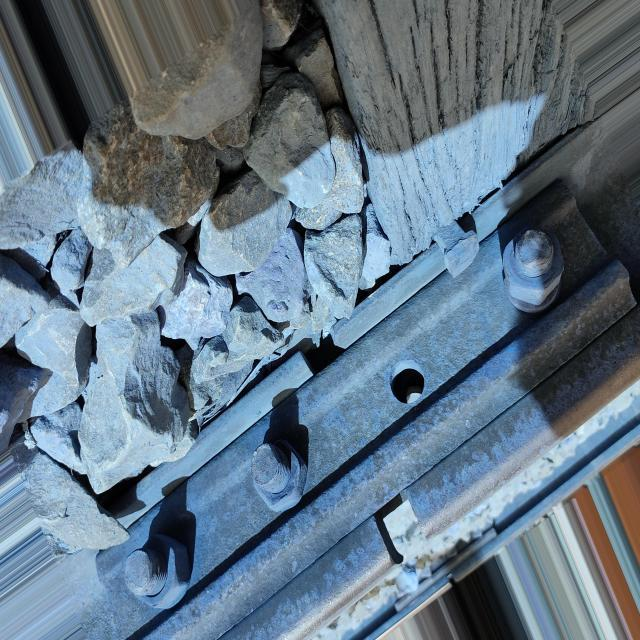Defective Joint: (94, 182, 630, 640)
